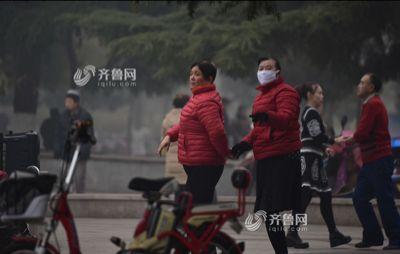no-mask: (188, 63, 219, 92), (299, 79, 327, 111), (353, 72, 377, 101)
with-mask: (254, 60, 285, 90)
